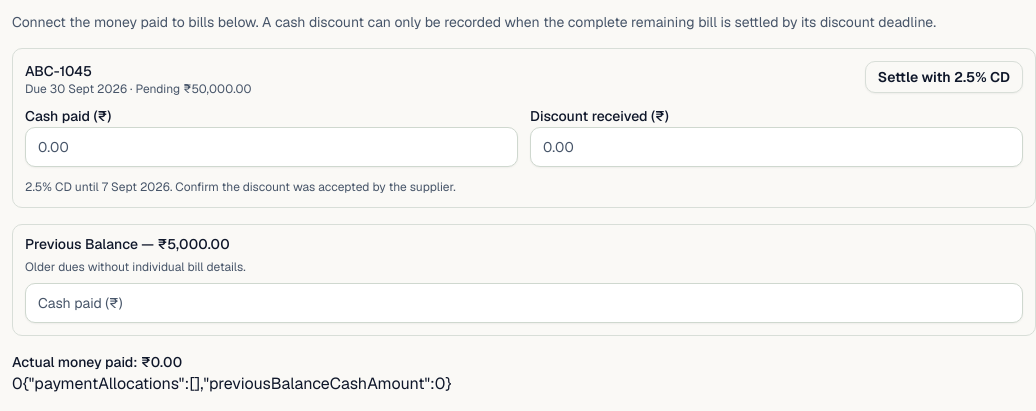
Test case: Supplier payment form › keeps cash distinct from full settlement when a discount is accepted
Step 1. Click the button "Settle with 2.5% CD" → (944, 77), box x1=865 y1=61 x2=1023 y2=93
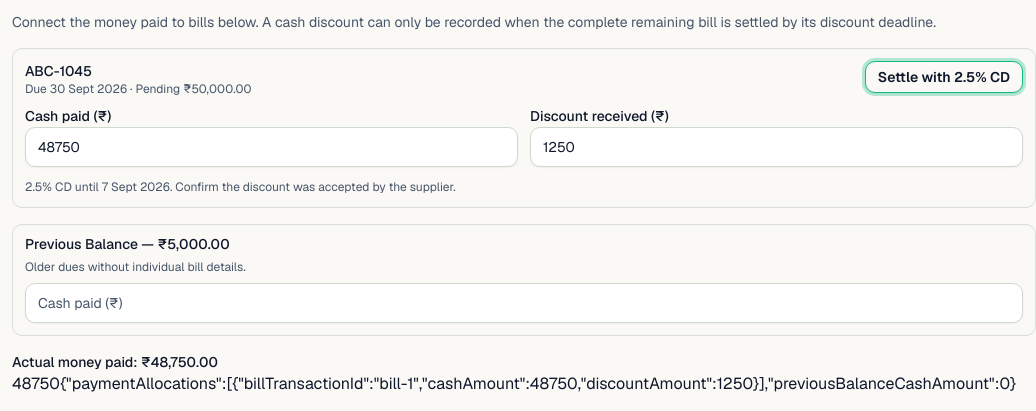
Expected: the text with test id "cash-total" reads "48750", x1=12 y1=373 x2=60 y2=394
